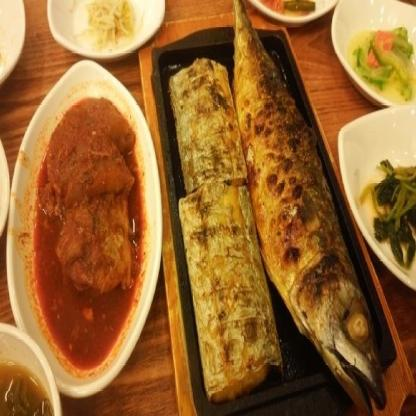Peixe: (178, 0, 375, 408)
